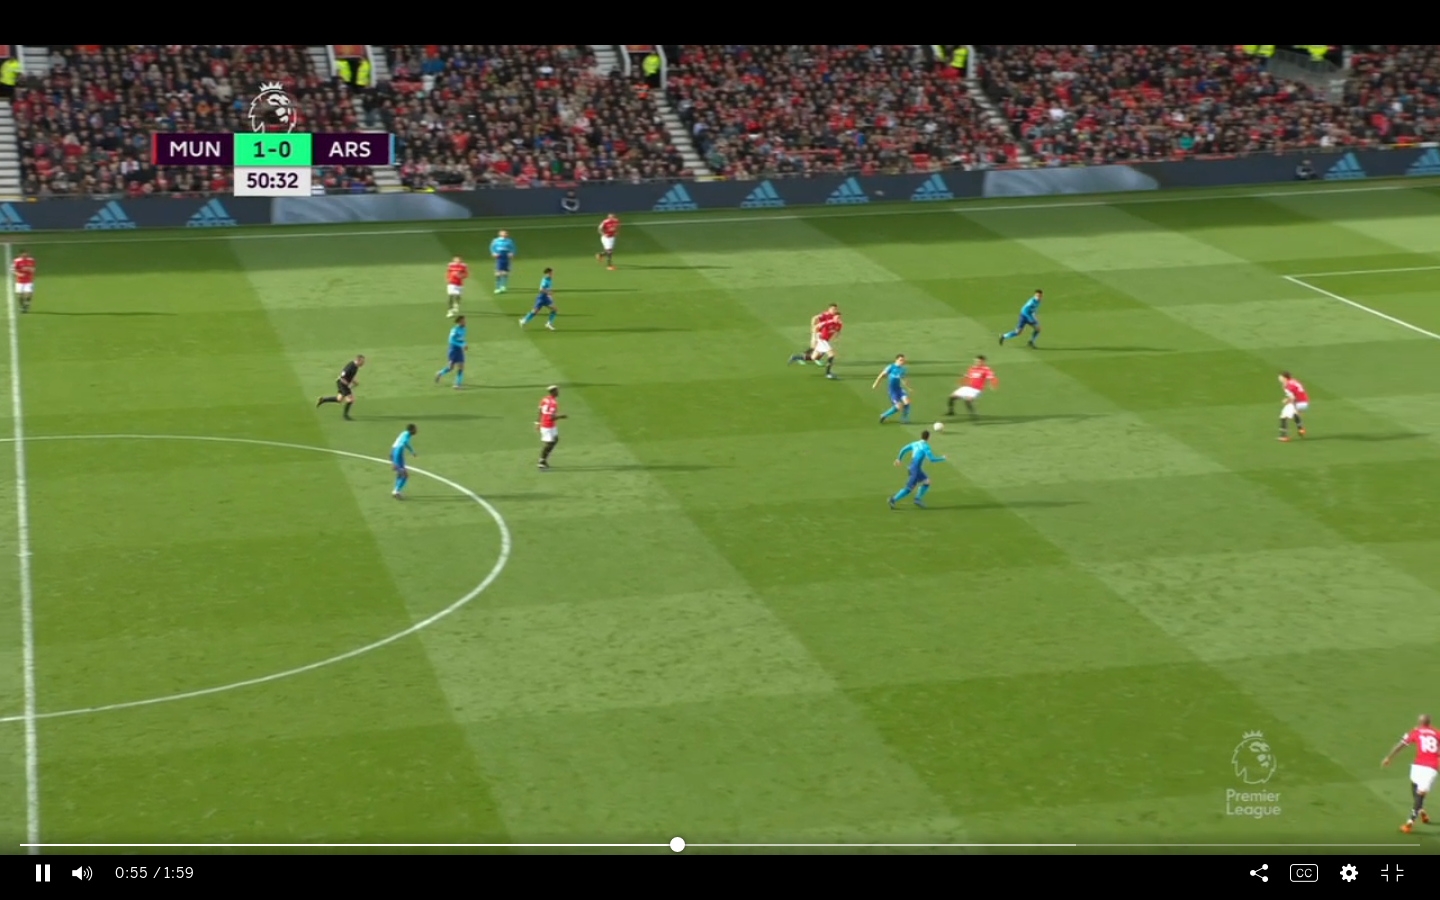referee: (316, 352, 372, 425)
soccer player: (1382, 716, 1440, 839), (888, 429, 947, 508), (527, 379, 573, 476), (795, 305, 848, 382), (944, 354, 999, 425), (516, 263, 564, 339), (870, 348, 913, 428), (996, 291, 1050, 351), (385, 420, 419, 503), (1276, 368, 1313, 445), (435, 312, 467, 394), (10, 243, 39, 319), (592, 205, 621, 272), (492, 226, 516, 302), (442, 252, 467, 320)
soccerball: (927, 411, 950, 439)
